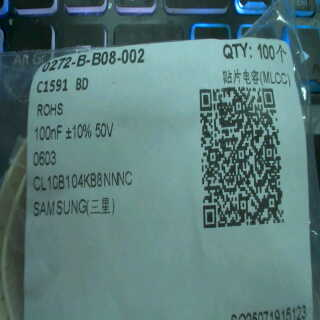100nF: (34, 120, 63, 148)
